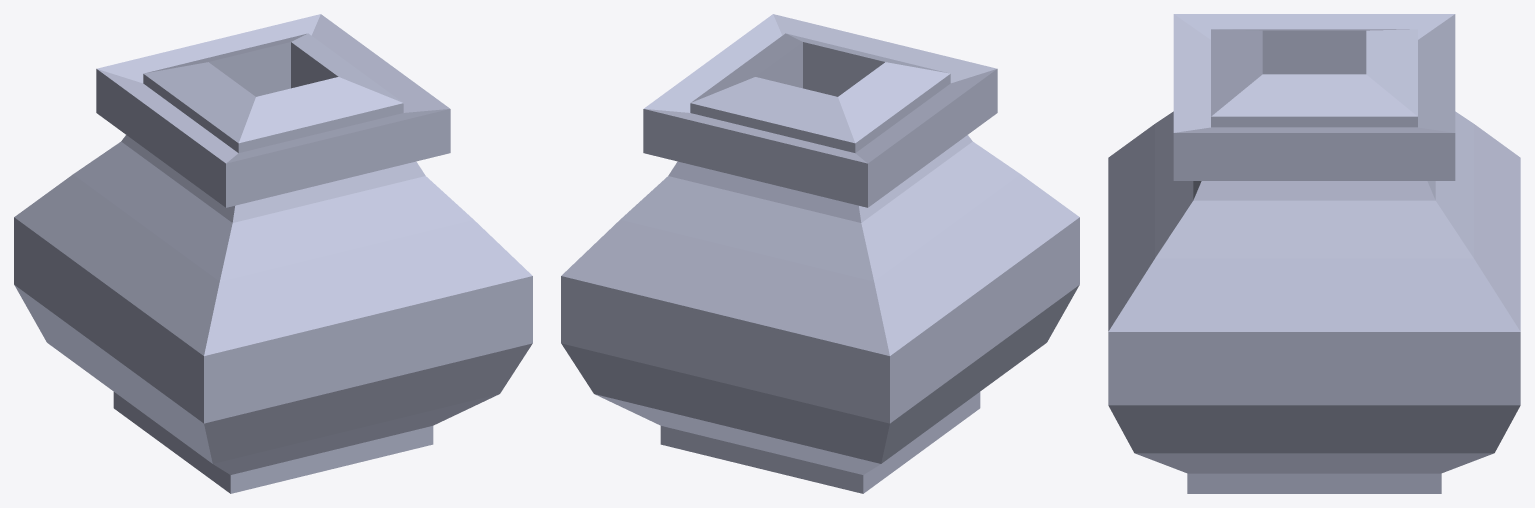
File: inkwell.glb
The picture shows the model from 3 angles, left to right: view 1: azimuth 30°, elevation 25°; view 2: azimuth 150°, elevation 25°; view 3: azimuth 270°, elevation 25°; orthographic projection. The views are drawn at different scales.
Parts seen in each view (by area): view 1: Plane; view 2: Plane; view 3: Plane.
Boxes of the visible parts, x1,y1,x2,y2 form: Plane: (14,14,532,493); Plane: (561,14,1079,493); Plane: (1108,14,1520,493).
Bounding box in the file's own units: 0.0919 × 0.0953 × 0.0919.
